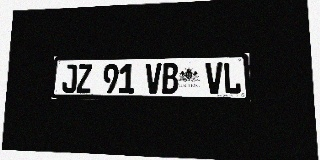1: (118, 63, 134, 93)
9: (103, 64, 119, 93)
B: (162, 63, 178, 94)
J: (62, 64, 77, 93)
L: (223, 62, 241, 94)
V: (205, 62, 223, 94), (145, 63, 161, 94)
Z: (76, 64, 92, 93)
